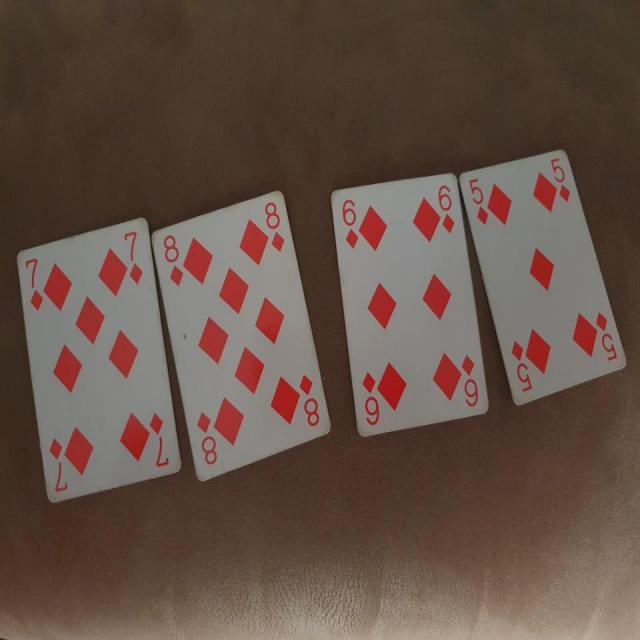5 of diamonds: (461, 147, 628, 409)
6 of diamonds: (328, 170, 488, 438)
7 of diamonds: (13, 215, 184, 506)
8 of diamonds: (152, 188, 330, 491)
